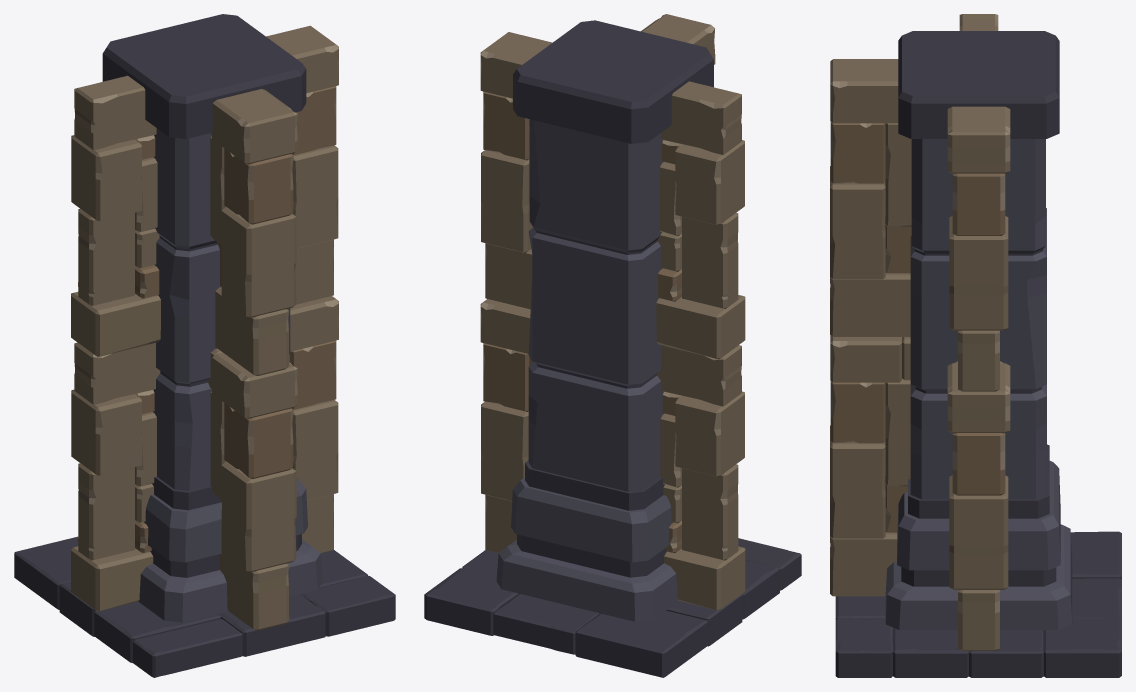
The model's file is three_way_column.glb.
3 renders of one model, left to right at view 1: azimuth 30°, elevation 25°; view 2: azimuth 150°, elevation 25°; view 3: azimuth 270°, elevation 25°, orthographic. The views are drawn at different scales.
Visible parts, largest first — view 1: three_way_column; view 2: three_way_column; view 3: three_way_column.
Boxes of the visible parts, x1,y1,x2,y2 form: three_way_column: (14,14,395,677); three_way_column: (424,14,801,677); three_way_column: (830,14,1121,677).
Size of the model in its own units: 2.01 by 4.3 by 2.04.
1 material, 1 textured.
